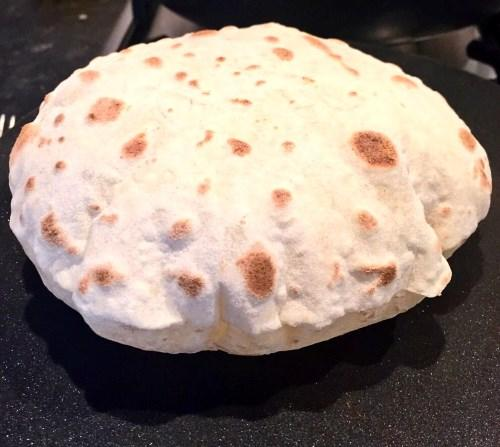chapati: (10, 23, 491, 354)
